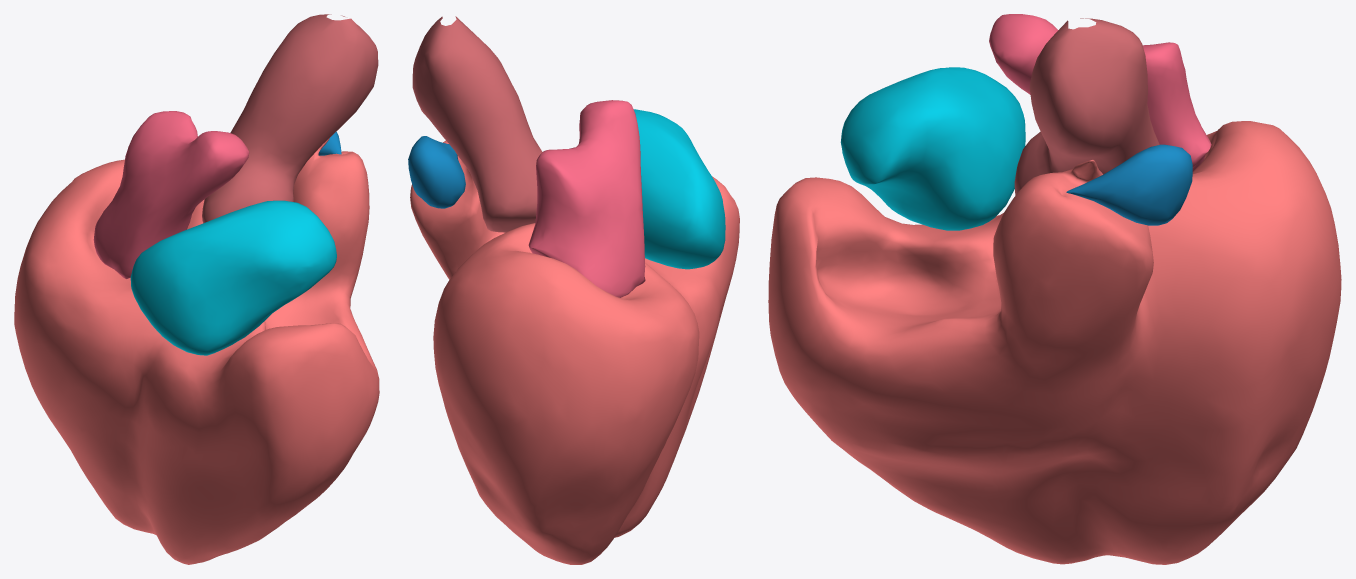
Rendered from frame_67.glb.
3 renders of one model, left to right at view 1: azimuth 30°, elevation 25°; view 2: azimuth 150°, elevation 25°; view 3: azimuth 270°, elevation 25°, orthographic. The views are drawn at different scales.
Parts seen in each view (by area): view 1: Renderer Node; view 2: Renderer Node; view 3: Renderer Node.
Part boxes in pixels (bbox=[...]): Renderer Node: bbox=[14, 14, 379, 564]; Renderer Node: bbox=[408, 16, 739, 564]; Renderer Node: bbox=[768, 14, 1341, 564].
Bounding box in the file's own units: 101 × 159 × 129.
